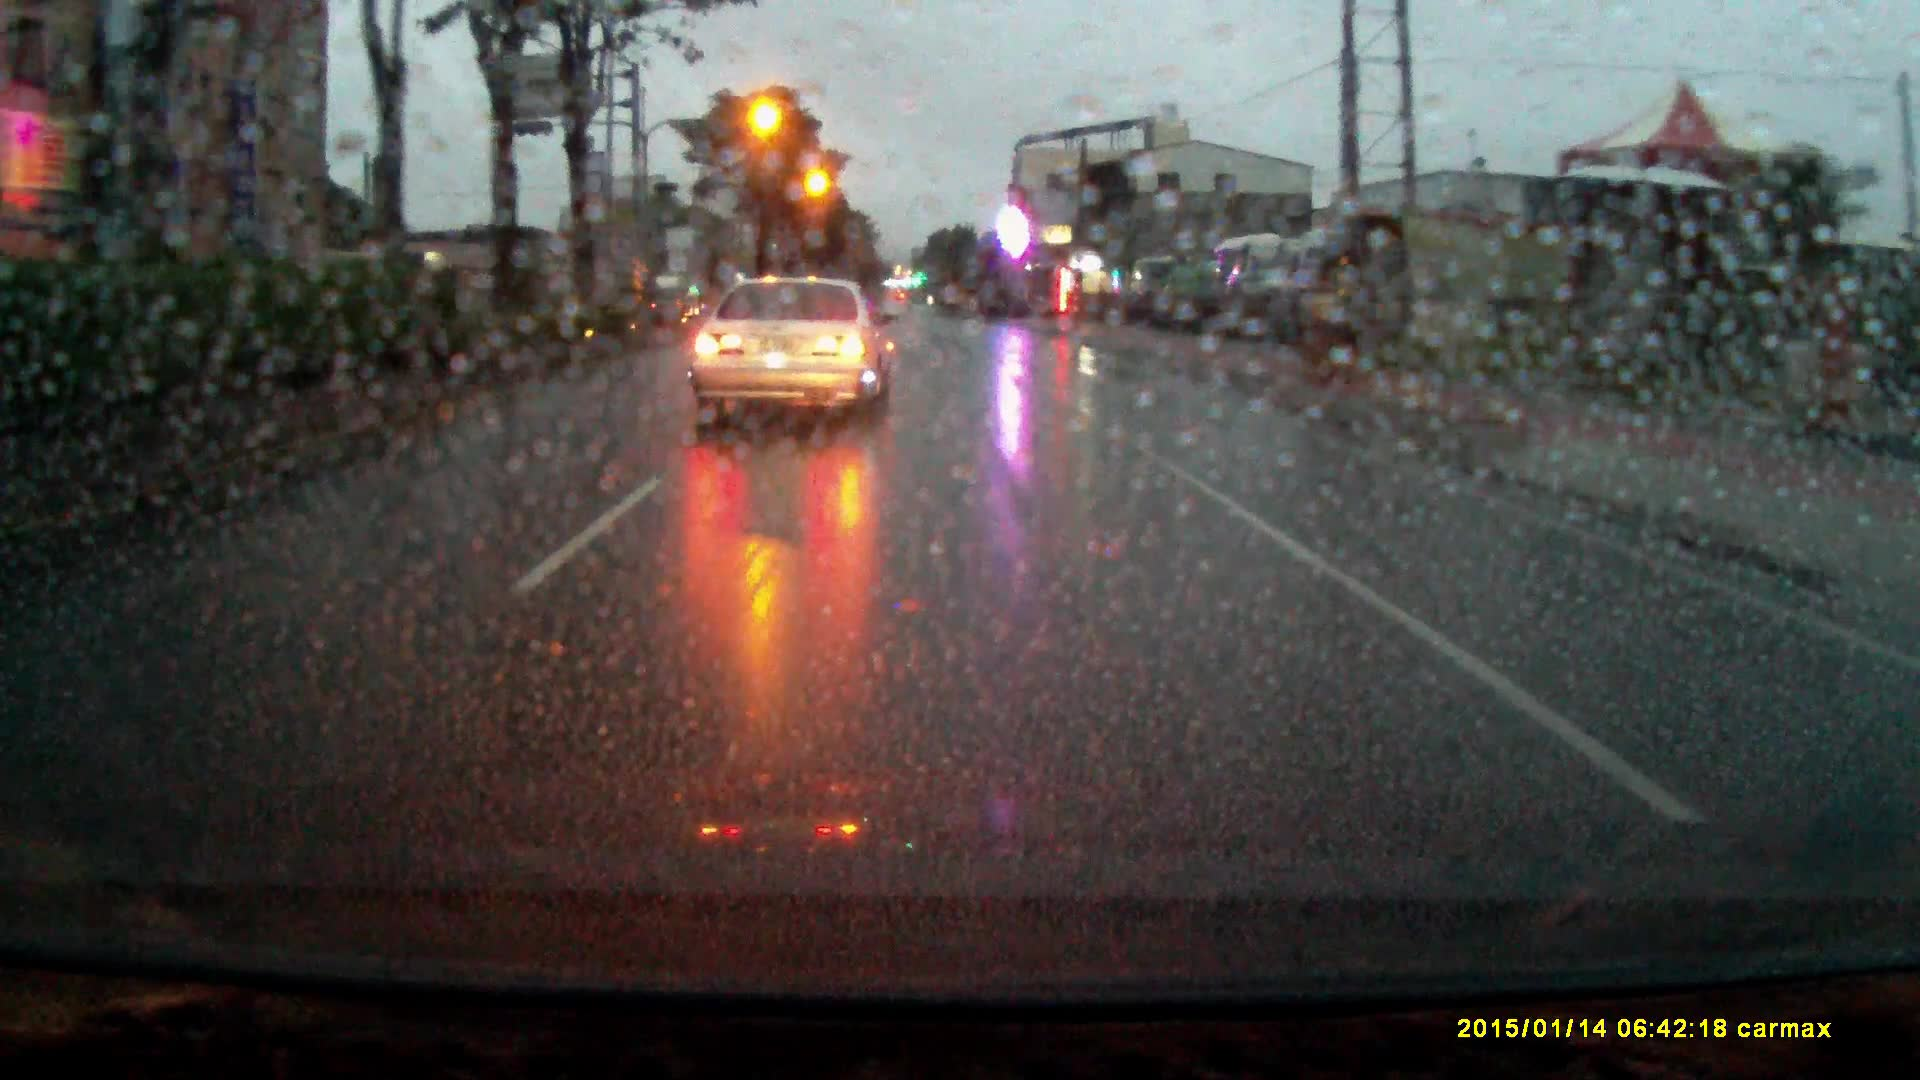vehicle: (688, 274, 899, 446), (1212, 239, 1304, 344), (1307, 232, 1386, 340), (1127, 258, 1184, 330), (1159, 268, 1217, 319), (655, 280, 703, 328)
